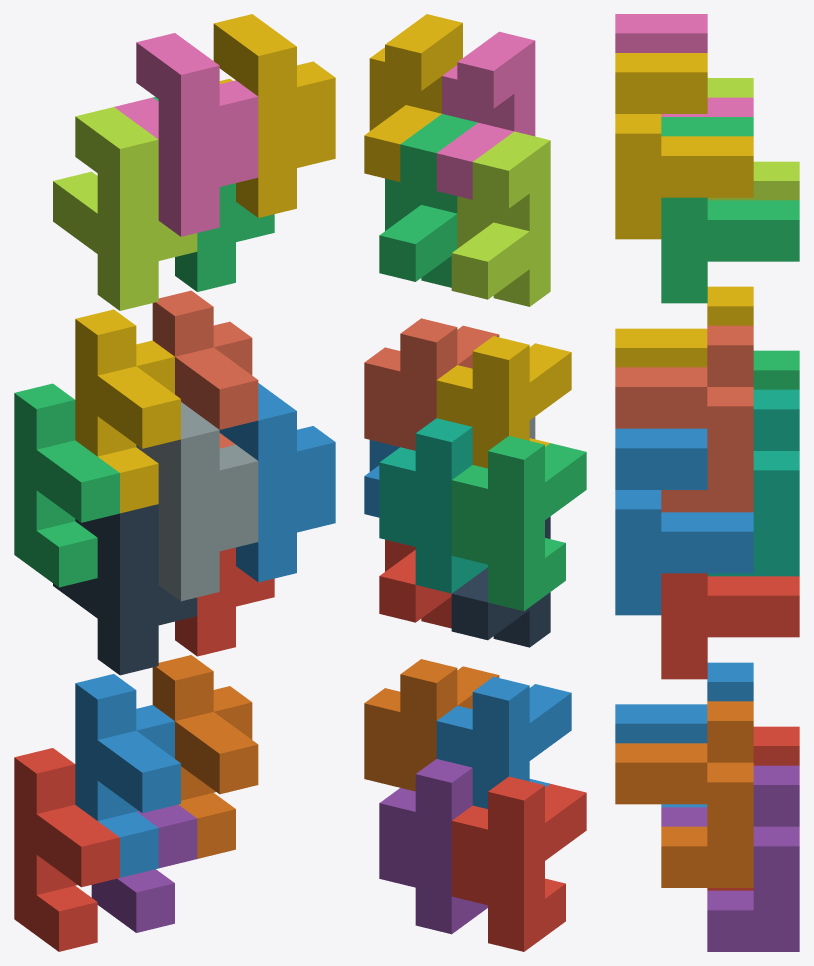
File: tiling.obj
The picture shows the model from 3 angles, left to right: view 1: azimuth 30°, elevation 25°; view 2: azimuth 150°, elevation 25°; view 3: azimuth 270°, elevation 25°; orthographic projection. The views are drawn at different scales.
Visible parts, largest first — view 1: copy_2_domain_4, copy_2_domain_3, copy_1_domain_1, copy_1_domain_3, copy_1_domain_4, copy_1_domain_2, copy_2_domain_2, copy_2_domain_8, copy_1_domain_6, copy_2_domain_6, copy_2_domain_1, copy_1_domain_8 (+3 smaller); view 2: copy_1_domain_1, copy_1_domain_3, copy_2_domain_3, copy_1_domain_7, copy_1_domain_5, copy_1_domain_2, copy_1_domain_4, copy_2_domain_4, copy_2_domain_8, copy_2_domain_7, copy_1_domain_8, copy_1_domain_6 (+3 smaller); view 3: copy_2_domain_6, copy_1_domain_6, copy_2_domain_8, copy_1_domain_8, copy_2_domain_7, copy_1_domain_5, copy_2_domain_5, copy_1_domain_7, copy_1_domain_2, copy_1_domain_4, copy_2_domain_4, copy_2_domain_3 (+2 smaller).
Boxes of the visible parts, x1,y1,x2,y2 form: copy_2_domain_4: (114,33,258,236); copy_2_domain_3: (53,107,197,310); copy_1_domain_1: (14,748,119,951); copy_1_domain_3: (14,383,119,587); copy_1_domain_4: (75,309,180,513); copy_1_domain_2: (75,674,180,877); copy_2_domain_2: (136,402,258,601); copy_2_domain_8: (213,14,335,217); copy_1_domain_6: (152,655,258,858); copy_2_domain_6: (219,383,335,582); copy_2_domain_1: (53,504,197,675); copy_1_domain_8: (152,290,258,448); copy_1_domain_1: (451,776,586,951); copy_1_domain_3: (451,436,586,611); copy_2_domain_3: (451,131,550,306); copy_1_domain_7: (379,418,487,593); copy_1_domain_5: (379,759,487,934); copy_1_domain_2: (436,676,571,808); copy_1_domain_4: (436,336,571,468); copy_2_domain_4: (436,31,535,199); copy_2_domain_8: (364,14,462,181); copy_2_domain_7: (379,114,477,287); copy_1_domain_8: (364,318,499,450); copy_1_domain_6: (364,659,499,791); copy_2_domain_6: (615,428,753,615); copy_1_domain_6: (615,701,753,887); copy_2_domain_8: (615,53,753,239); copy_1_domain_8: (615,325,753,512); copy_2_domain_7: (661,117,799,303); copy_1_domain_5: (661,765,799,951); copy_2_domain_5: (661,573,799,679); copy_1_domain_7: (707,389,799,576); copy_1_domain_2: (615,662,753,807); copy_1_domain_4: (615,286,753,367); copy_2_domain_4: (615,14,753,116); copy_2_domain_3: (707,78,799,200).
Bounding box in the file's own units: 6 × 22 × 4.
